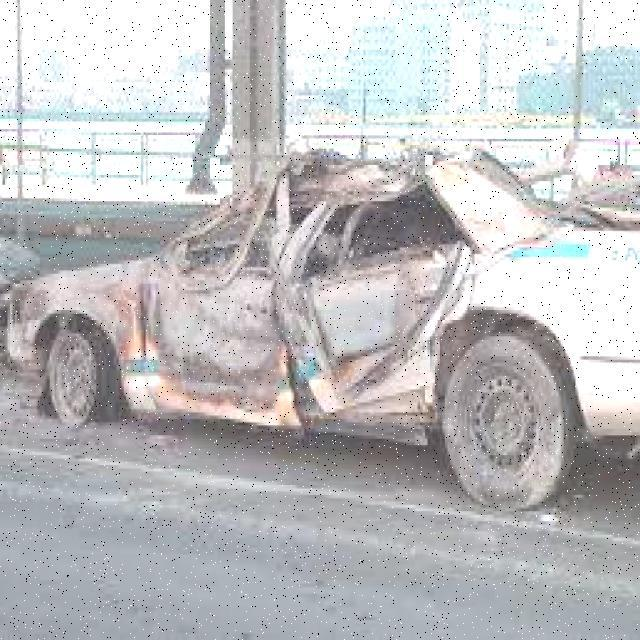car damage: (6, 152, 489, 442)
